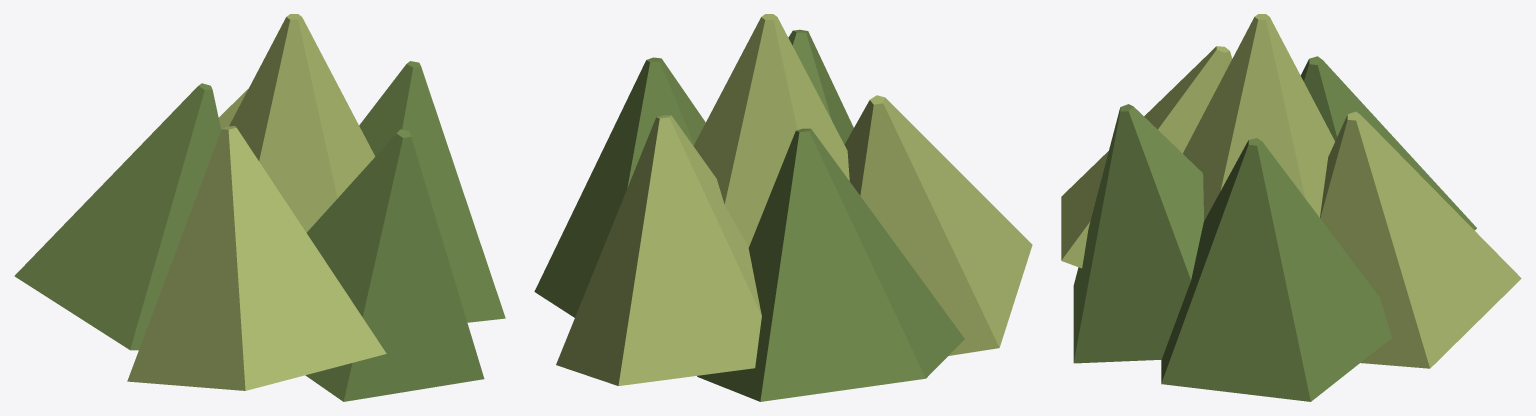
Rendered from bush.glb.
3 renders of one model, left to right at view 1: azimuth 30°, elevation 25°; view 2: azimuth 150°, elevation 25°; view 3: azimuth 270°, elevation 25°, orthographic. The views are drawn at different scales.
Visible parts, largest first — view 1: bush; view 2: bush; view 3: bush.
Boxes of the visible parts, bbox=[...] form: bush: bbox=[14, 14, 505, 401]; bush: bbox=[534, 14, 1032, 401]; bush: bbox=[1061, 14, 1521, 401].
Size of the model in its own units: 1.22 by 0.8782 by 1.2.
